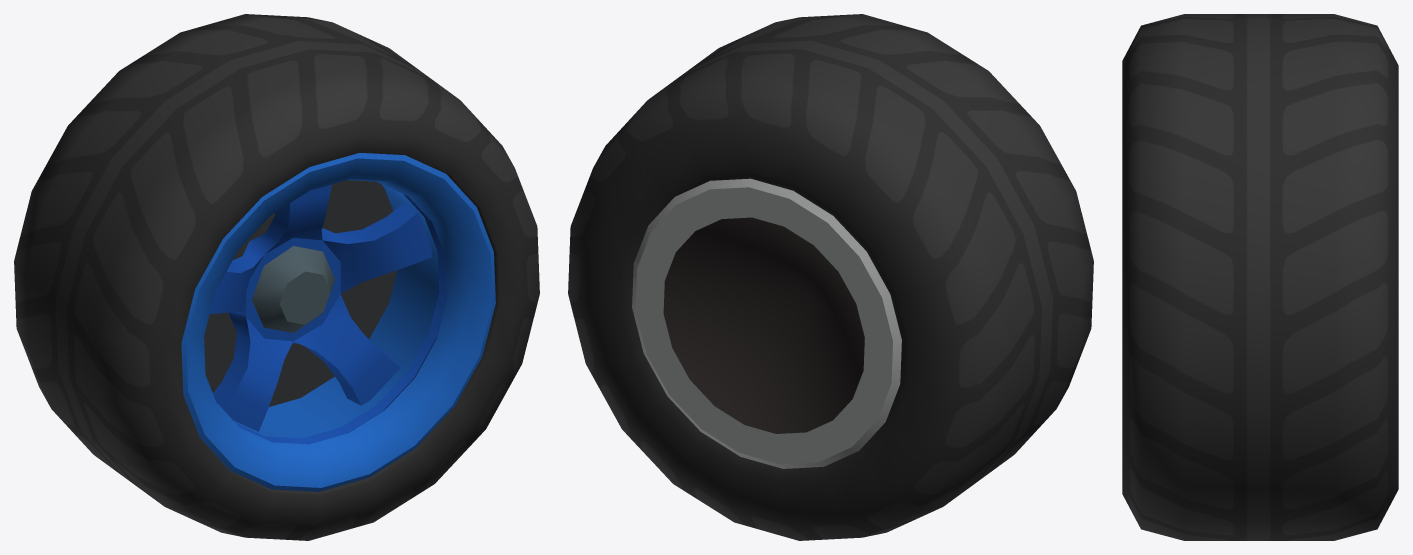
File: Wheel_07.fbx
3 views of the same model, side by side, from view 1: azimuth 30°, elevation 25°; view 2: azimuth 150°, elevation 25°; view 3: azimuth 270°, elevation 25° (orthographic). The views are drawn at different scales.
Parts seen in each view (by area): view 1: Wheel_07; view 2: Wheel_07; view 3: Wheel_07.
Boxes of the visible parts, box(x1,y1,x2,y2) form: Wheel_07: box(14, 14, 539, 540); Wheel_07: box(568, 14, 1093, 540); Wheel_07: box(1122, 14, 1398, 540).
Bounding box in the file's own units: 95 × 50 × 95.
